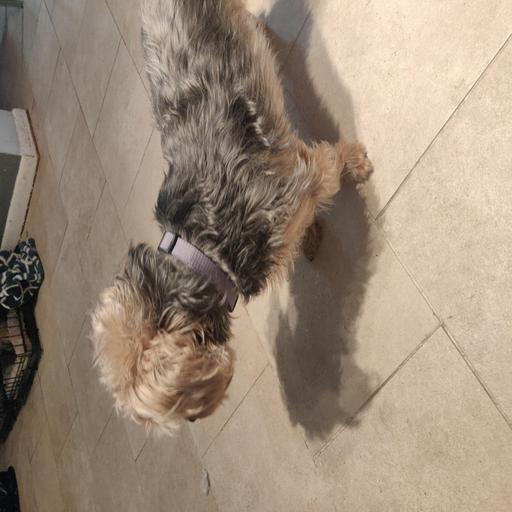dog: (91, 163, 356, 428)
